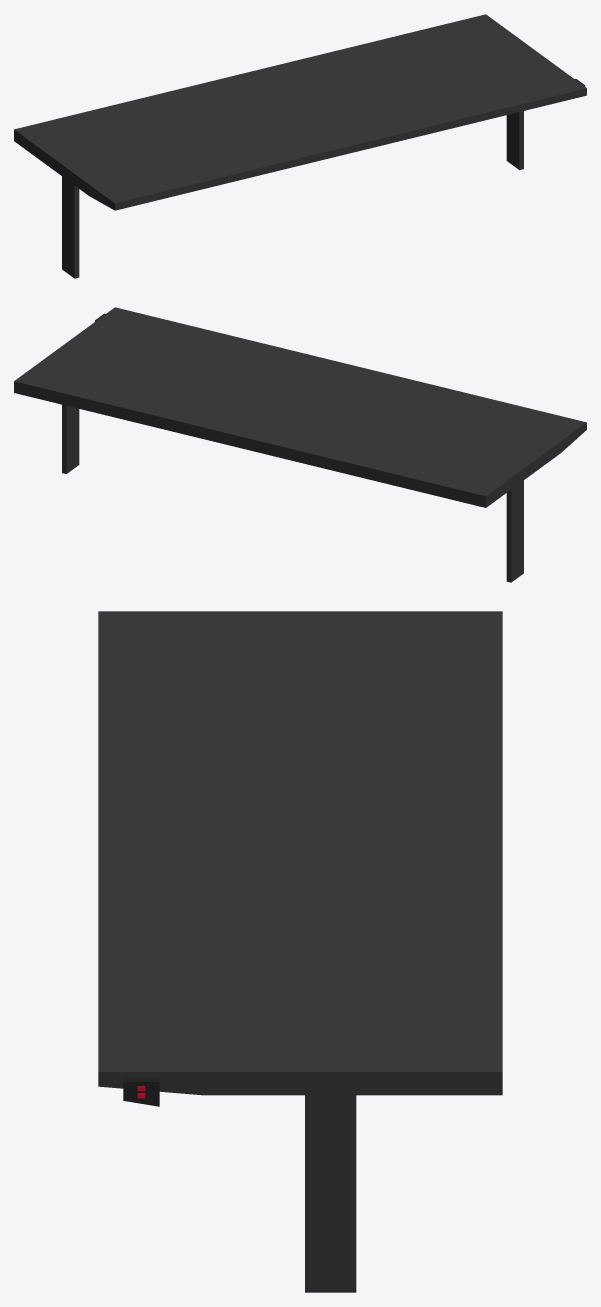
File: Desk_Mechanical_Top.obj
3 views of the same model, one above another, from view 1: azimuth 30°, elevation 25°; view 2: azimuth 150°, elevation 25°; view 3: azimuth 270°, elevation 25° (orthographic). The views are drawn at different scales.
Visible parts, largest first — view 1: Desk_Mechanical_Top; view 2: Desk_Mechanical_Top; view 3: Desk_Mechanical_Top.
Boxes of the visible parts, x1=… form: Desk_Mechanical_Top: x1=14, y1=14, x2=586, y2=278; Desk_Mechanical_Top: x1=14, y1=307, x2=586, y2=582; Desk_Mechanical_Top: x1=98, y1=611, x2=502, y2=1292.
Bounding box in the file's own units: 2.38 × 0.552 × 0.8726.
